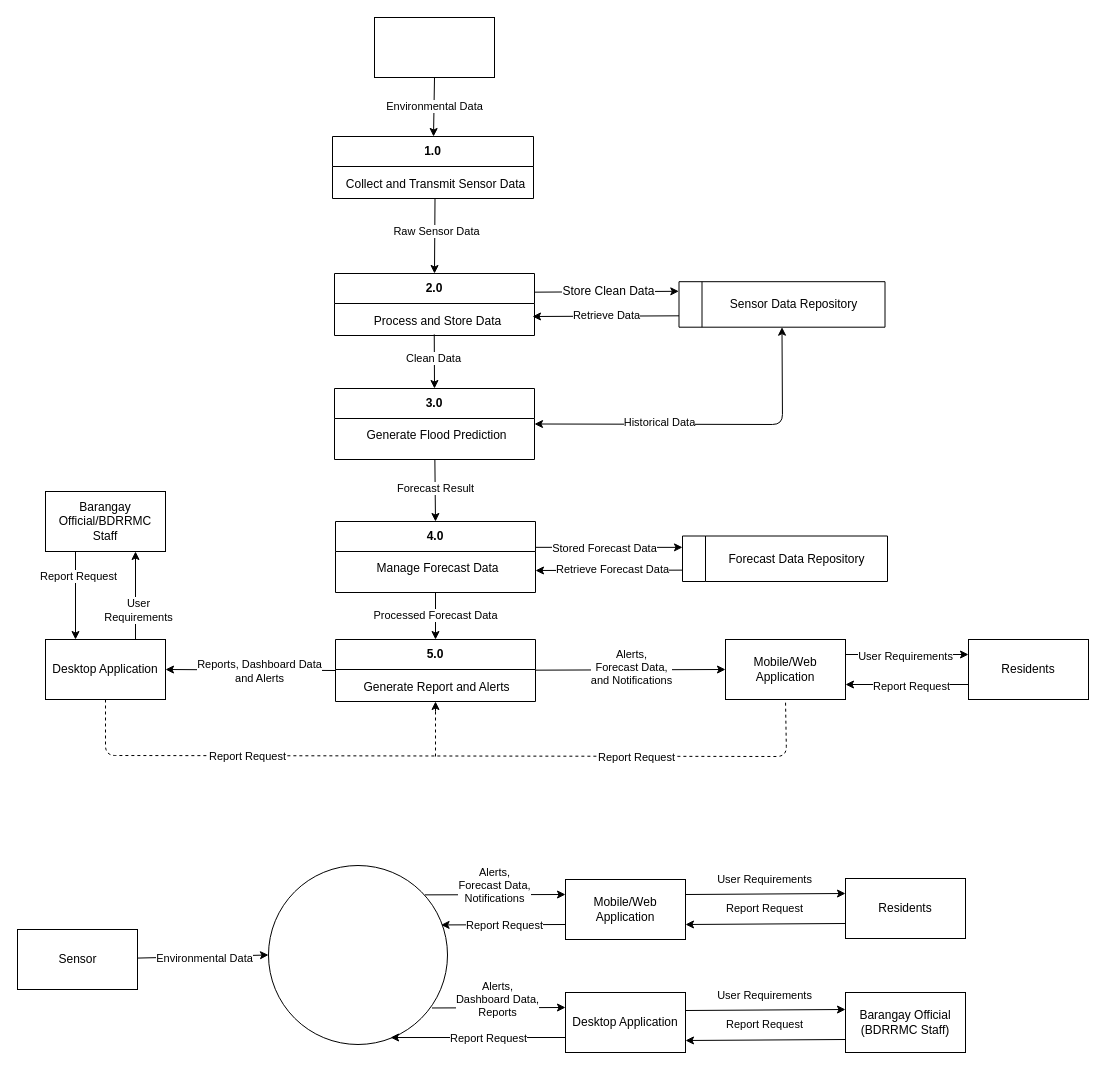
The diagram is 1106 pixels wide and 1070 high, and some of its shapes have lost their labels. The shapes that lost their labels are listed below. From the top down, each one's box as (x1, y1, x2, y2) in pixels, then its label:
(374, 16, 494, 78): Sensors
(678, 281, 885, 327): D1
(682, 535, 888, 582): D2
(268, 864, 448, 1044): IoT Forecasting and Alert System
